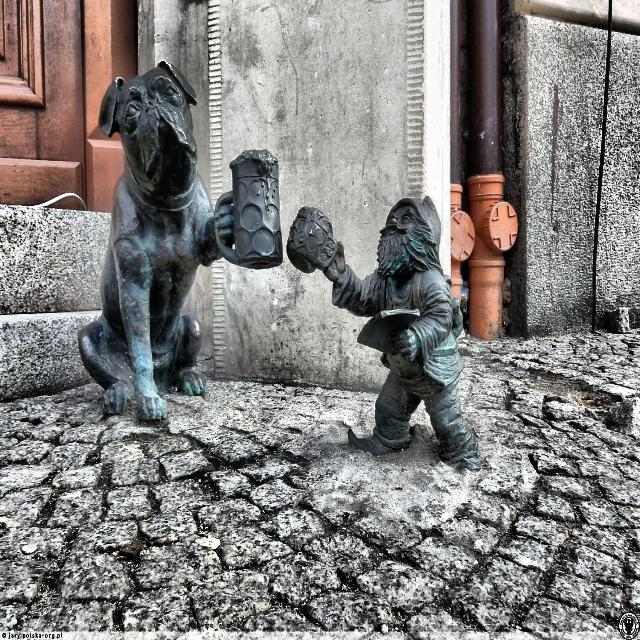Piwozlopek_ i_Piesel_Piwosz: (79, 62, 282, 420), (288, 197, 480, 470)
